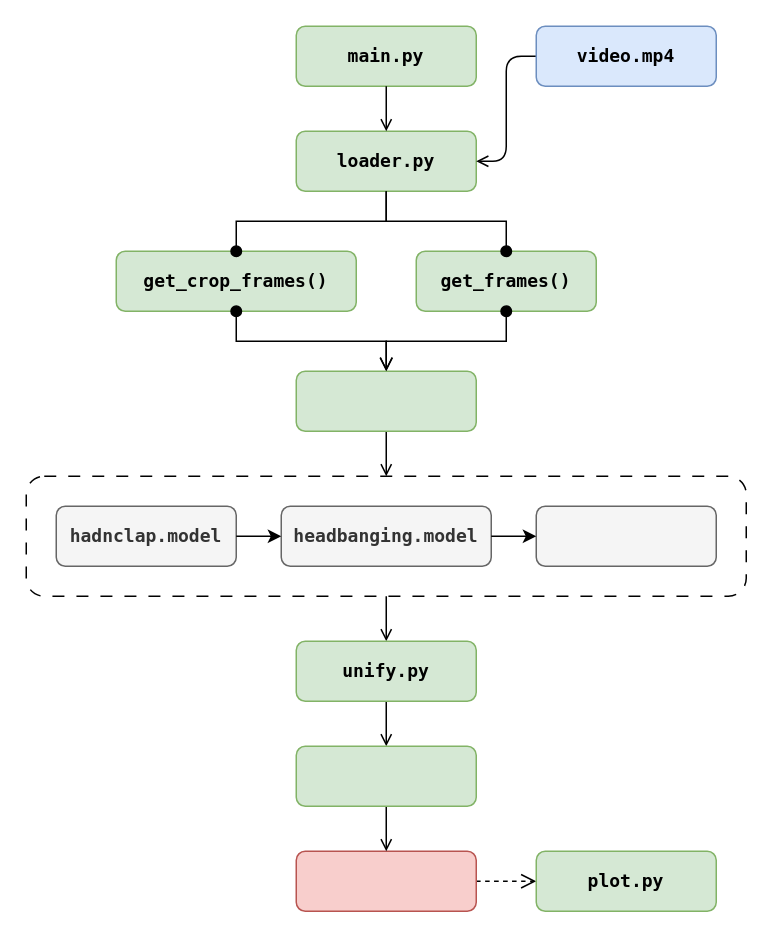
This 773x938 diagram has some shape labels left out. The shapes that lost their labels are listed below. From the top down, each one's centre as x and y in pixels, then its label:
At (385,400): "Frames".
At (625,535): "sitstand.model".
At (385,775): "unified: dataFrame".
At (385,880): "unified.csv".
